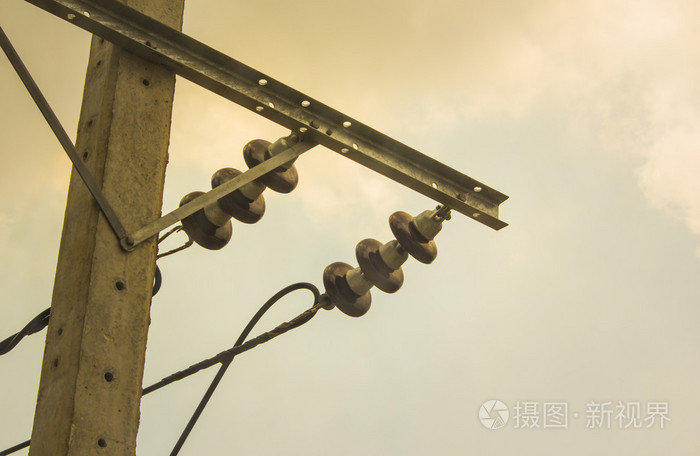insulator: (178, 139, 300, 251), (318, 209, 436, 320)
